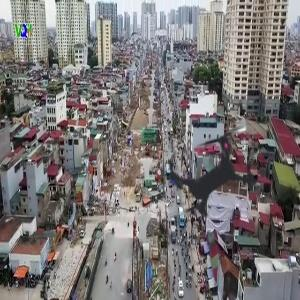drone: (129, 87, 297, 255)
